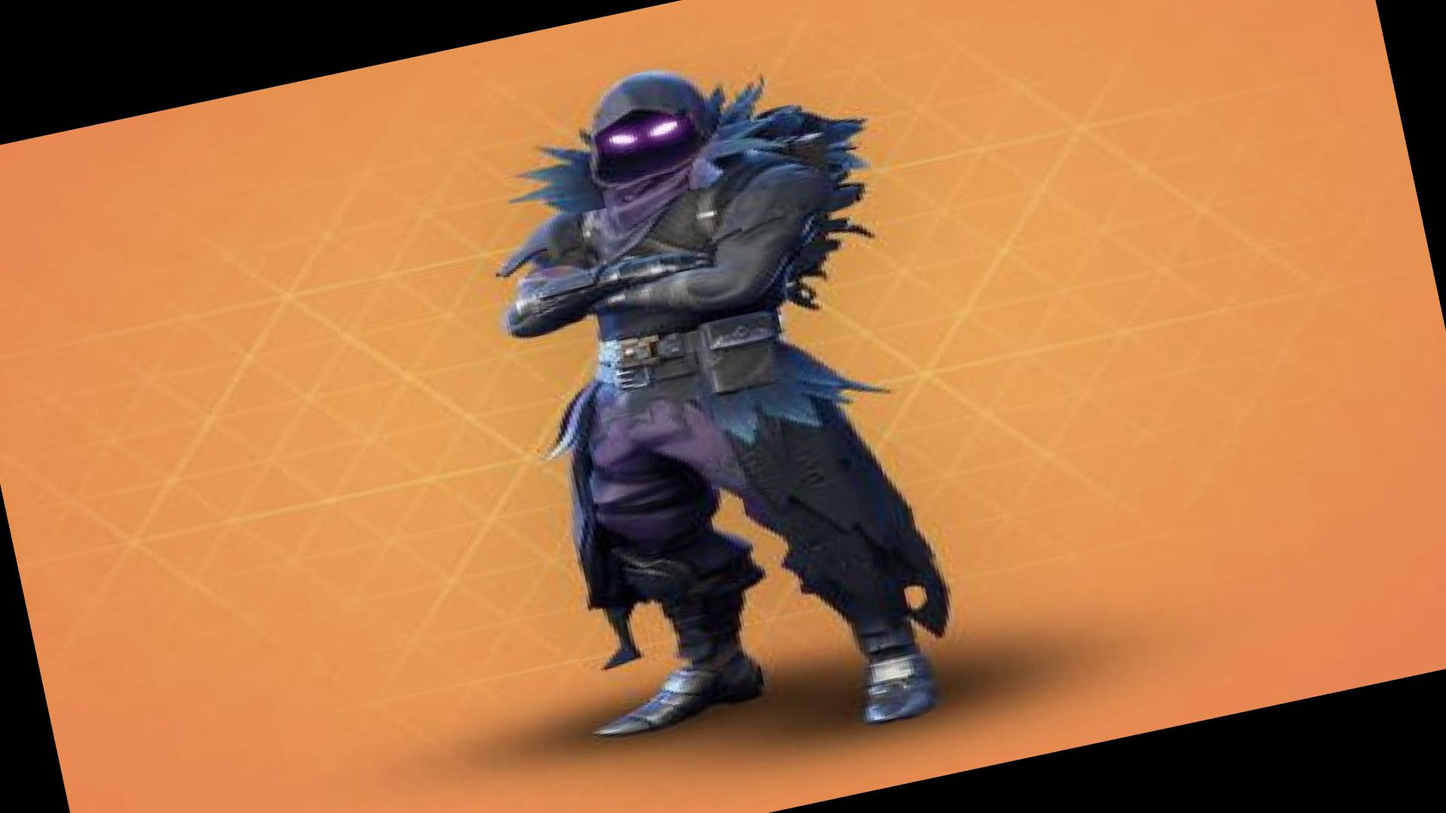player: (444, 19, 998, 792)
